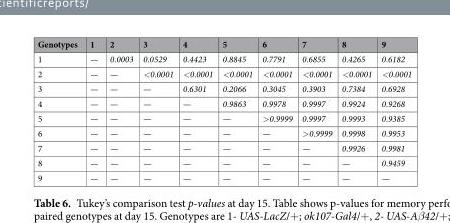table: (36, 37, 411, 183)
table column: (36, 37, 82, 183), (137, 37, 177, 183), (177, 37, 217, 183), (256, 37, 296, 183), (296, 37, 336, 183), (217, 37, 256, 183), (336, 37, 375, 183), (375, 37, 411, 183), (103, 37, 137, 183), (82, 37, 103, 183)
table column header: (36, 37, 411, 51)
table row: (36, 65, 411, 80), (36, 80, 411, 95), (36, 95, 411, 110), (36, 110, 411, 125), (36, 125, 411, 140), (36, 140, 411, 155), (36, 37, 411, 51), (36, 51, 411, 65), (36, 155, 411, 169), (36, 169, 411, 183)
